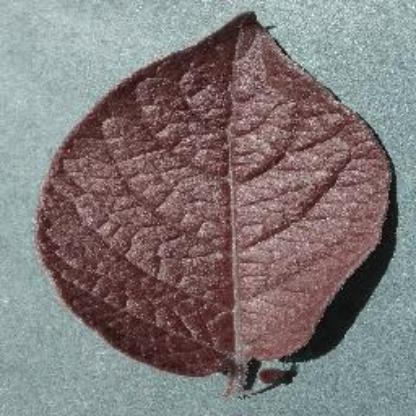Healthy-plant: (27, 15, 393, 389)
